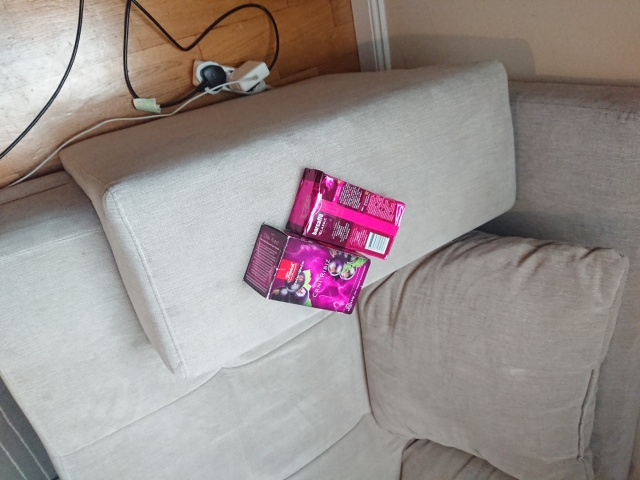Barcaffe Classic Original 225g: (283, 166, 409, 263)
Franck Black Currant Tea 60g: (239, 220, 374, 316)
